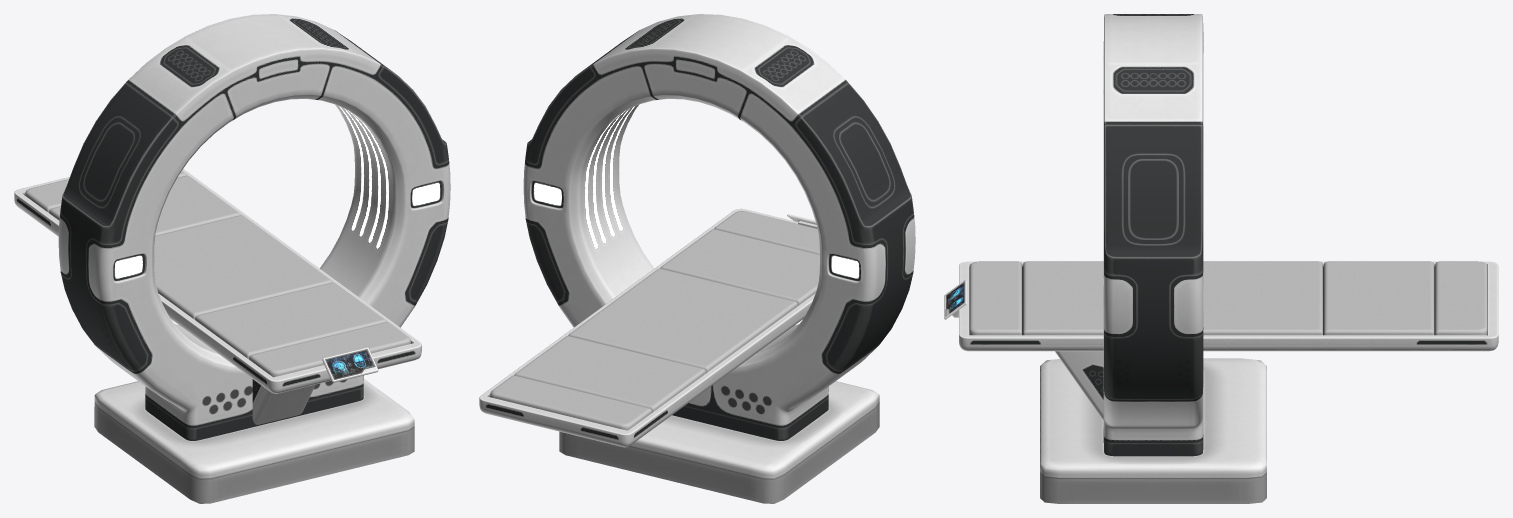
The model's file is MedMRIMachine01.FBX.
3 renders of one model, left to right at view 1: azimuth 30°, elevation 25°; view 2: azimuth 150°, elevation 25°; view 3: azimuth 270°, elevation 25°, orthographic. The views are drawn at different scales.
Parts seen in each view (by area): view 1: MRI, Bed, Base; view 2: MRI, Bed; view 3: MRI, Bed, Base.
Boxes of the visible parts, box(x1,y1,x2,y2) form: MRI: box(58, 14, 450, 503); Bed: box(14, 169, 421, 393); Base: box(252, 379, 315, 424); MRI: box(523, 14, 915, 503); Bed: box(479, 208, 819, 447); MRI: box(1040, 14, 1266, 503); Bed: box(944, 261, 1498, 351); Base: box(1055, 351, 1103, 420).
Size of what is drawn, in the model's own units: 2.25 by 2.46 by 2.97.
